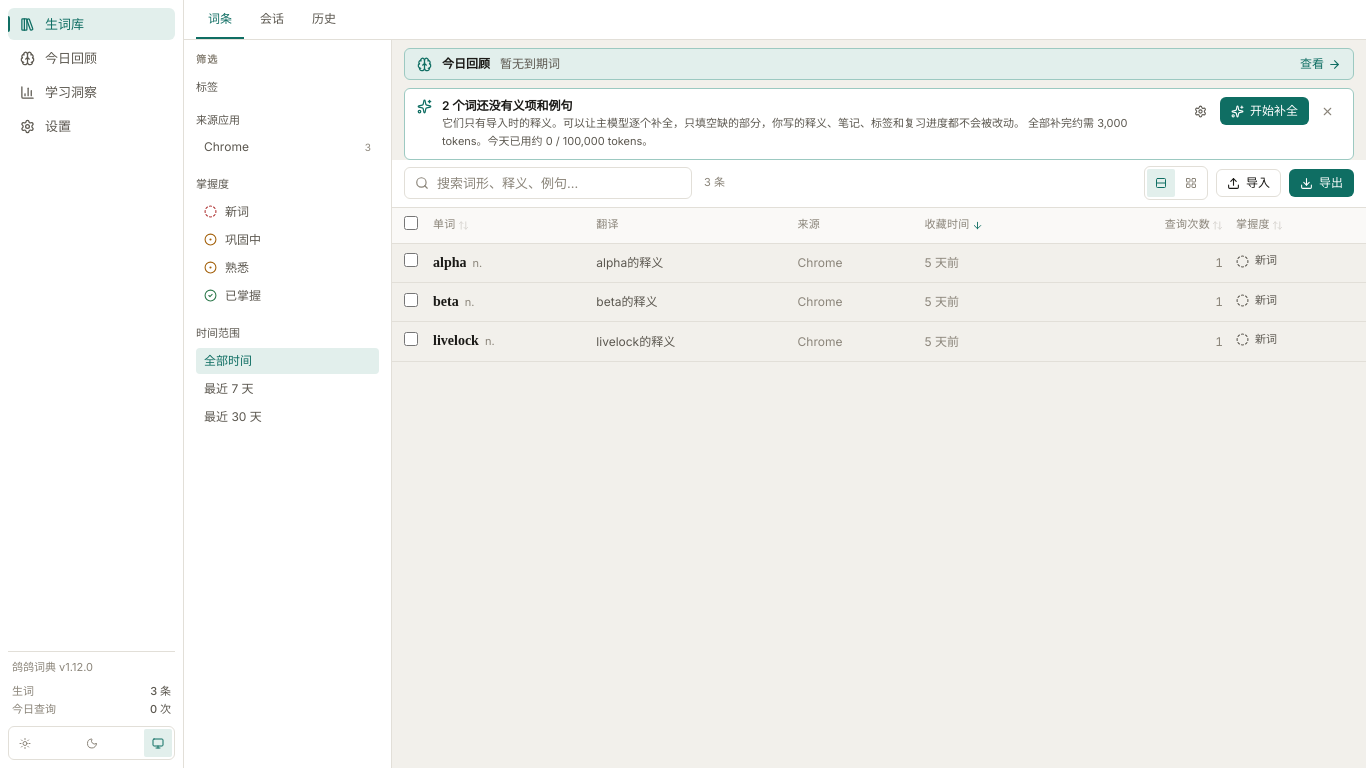
the word list in the library › filling in the words that have only a meaning › offers nothing for a selection in which no word is bare
The width and height of the screenshot is (1366, 768).
Expected: the checkbox named "选择 alpha" is shown, [404,253,418,267]
Click the checkbox named "选择 livelock" at (411, 339), box [404,332,418,346]
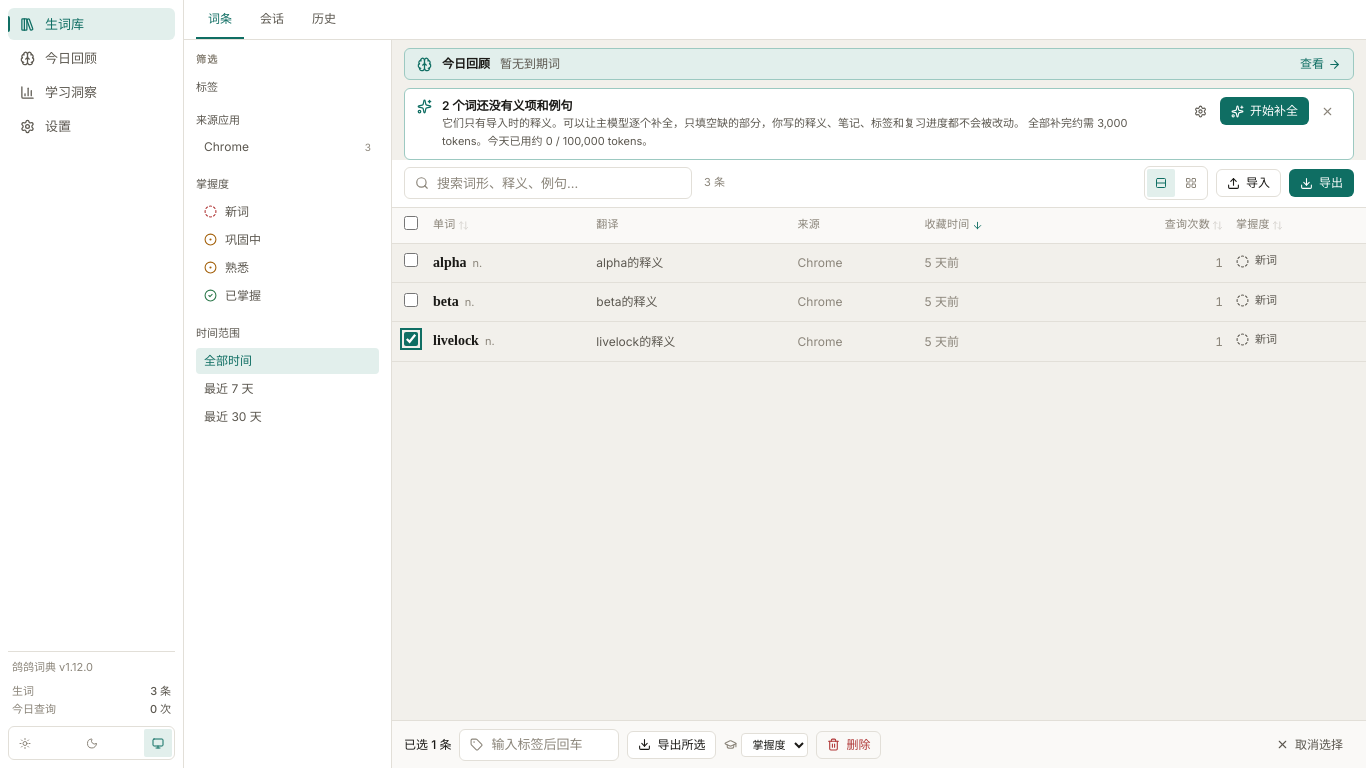
Expected: the text "已选 1 条" is shown, [404,736,451,754]
